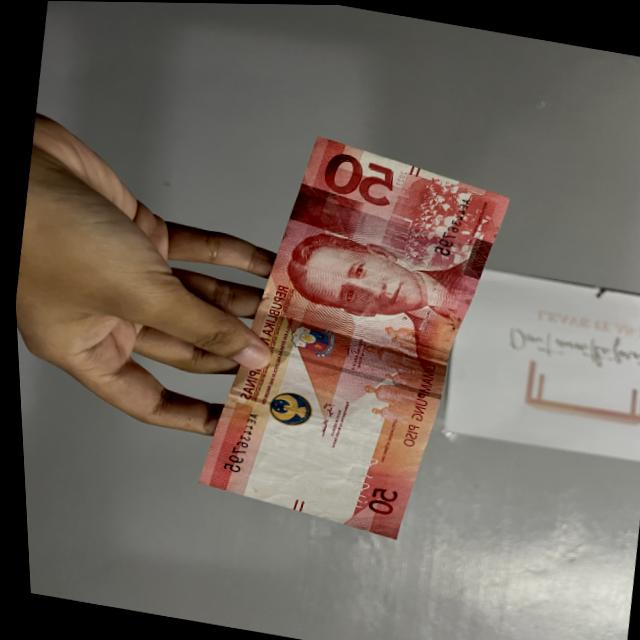concealed_value: (282, 180, 366, 238)
see_through_mark: (334, 440, 384, 515)
value: (311, 135, 413, 221)
